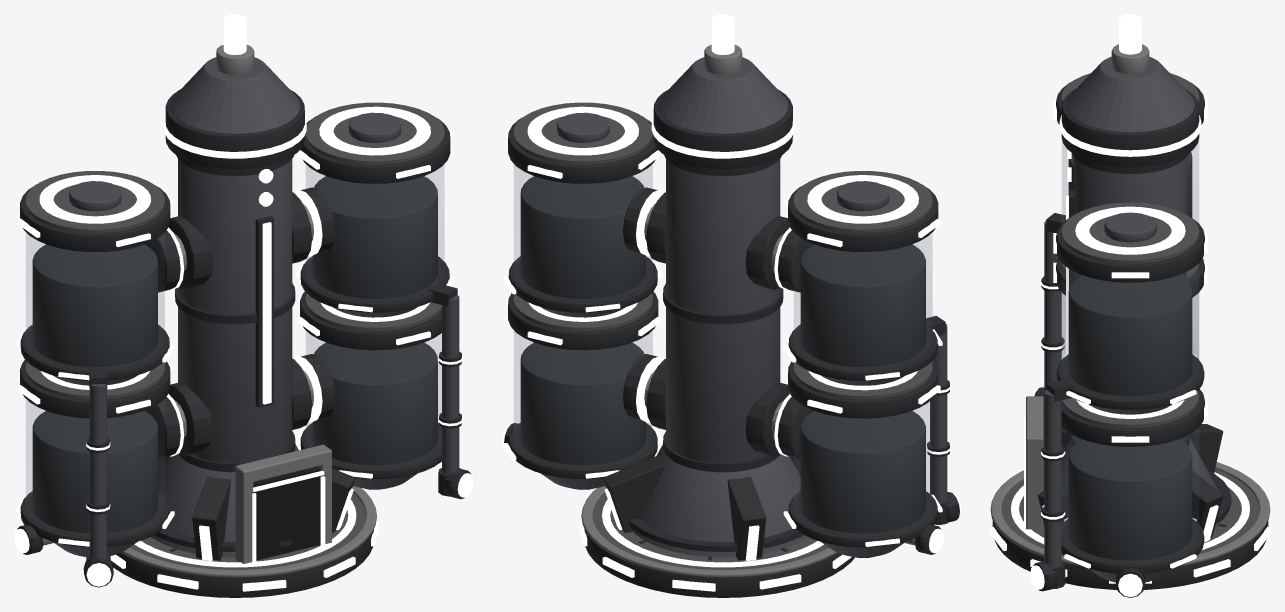
File: Vat_T3.glb
3 renders of one model, left to right at view 1: azimuth 30°, elevation 25°; view 2: azimuth 150°, elevation 25°; view 3: azimuth 270°, elevation 25°, orthographic.
Visible parts, largest first — view 1: Vat_T3; view 2: Vat_T3; view 3: Vat_T3.
Part boxes in pixels (box(x1,y1,x2,y2)): Vat_T3: box(14, 14, 473, 597); Vat_T3: box(502, 14, 961, 597); Vat_T3: box(990, 14, 1270, 597).
Bounding box in the file's own units: 6.75 × 7.91 × 3.87.
